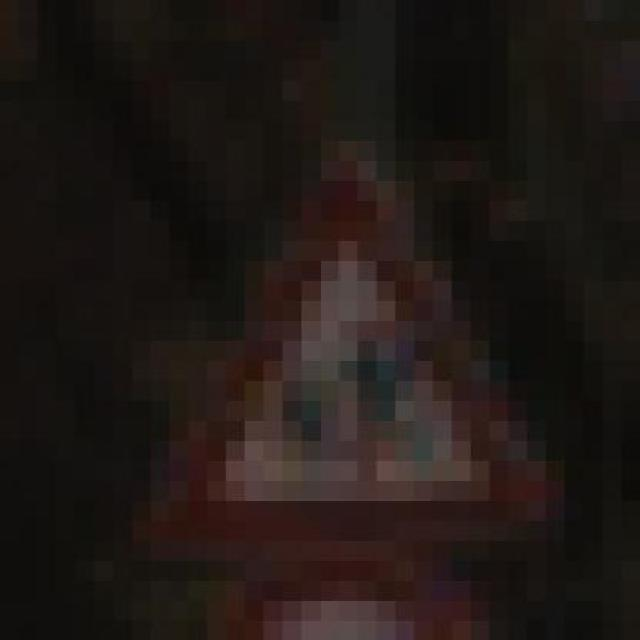Beware of children: (93, 120, 564, 560)
